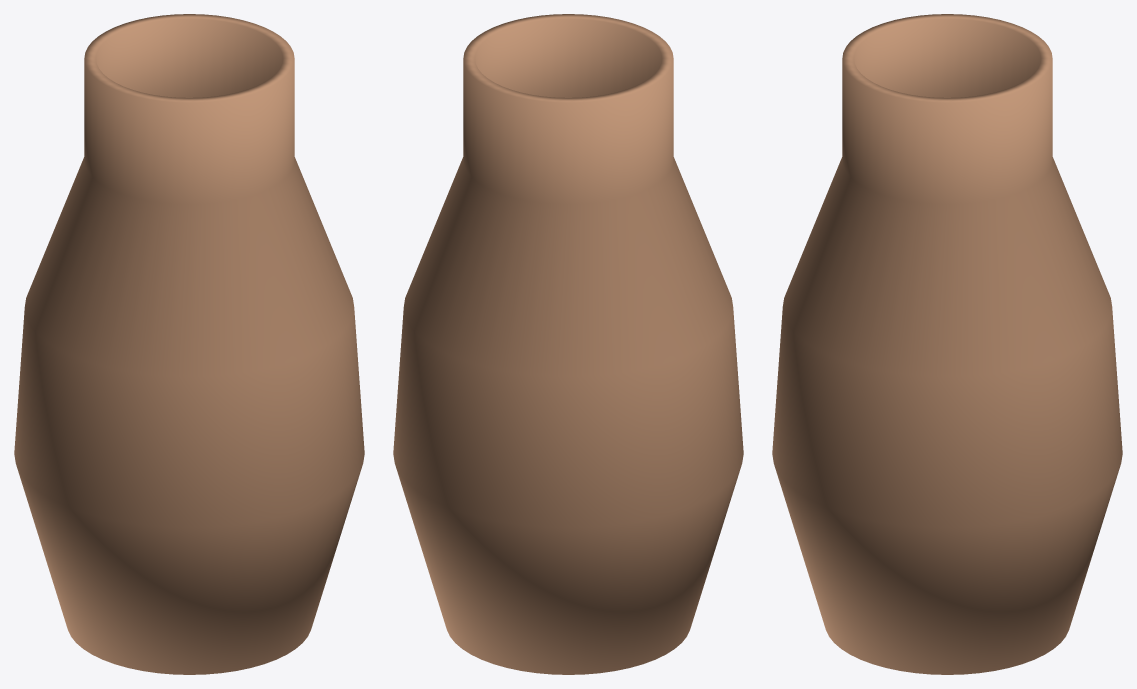
File: florero_ceramica_base.glb
3 views of the same model, side by side, from view 1: azimuth 30°, elevation 25°; view 2: azimuth 150°, elevation 25°; view 3: azimuth 270°, elevation 25° (orthographic).
Parts seen in each view (by area): view 1: florero_ceramica_base; view 2: florero_ceramica_base; view 3: florero_ceramica_base.
Part boxes in pixels (x1,y1,x2,y2): florero_ceramica_base: [14, 14, 364, 674]; florero_ceramica_base: [393, 14, 743, 674]; florero_ceramica_base: [772, 14, 1122, 674].
Size of the model in its own units: 0.18 by 0.32 by 0.18.
